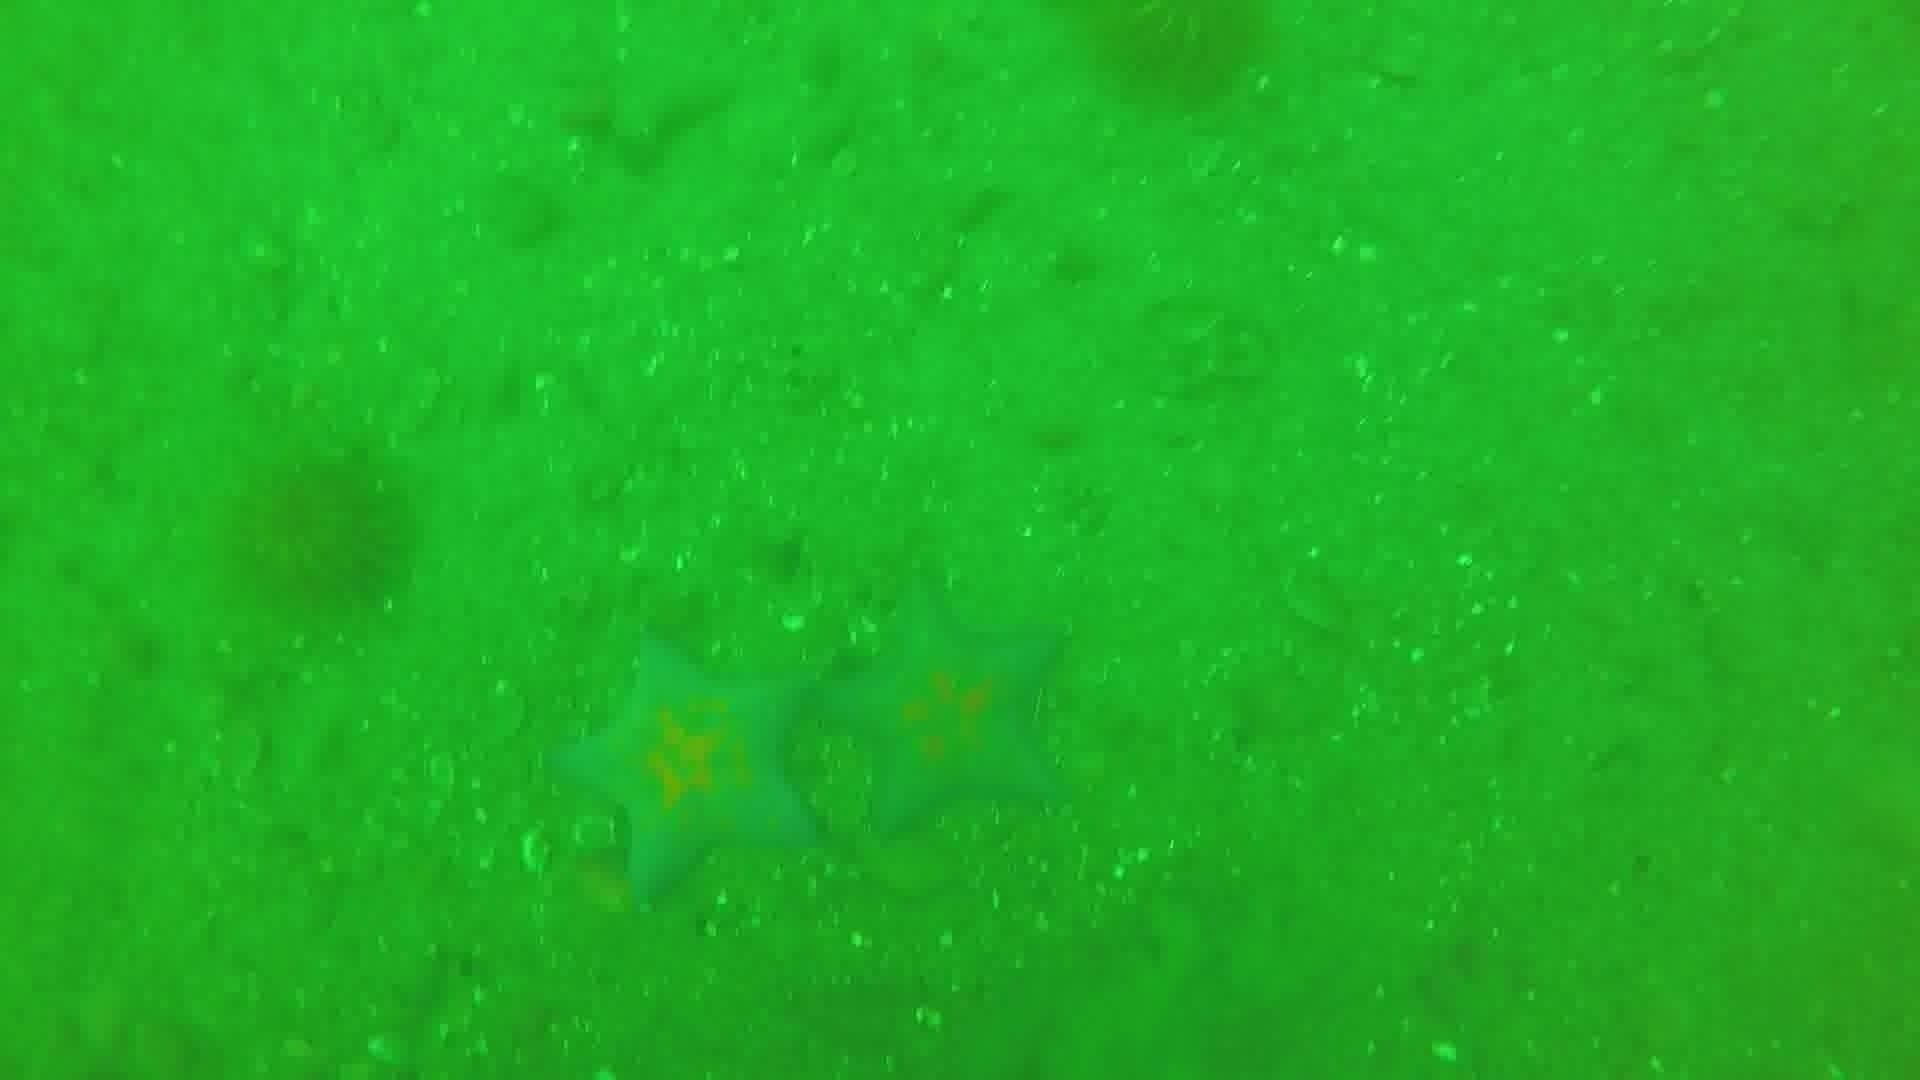echinus: (222, 443, 418, 615), (1083, 1, 1276, 112)
starfish: (547, 632, 828, 909), (814, 578, 1077, 841)
